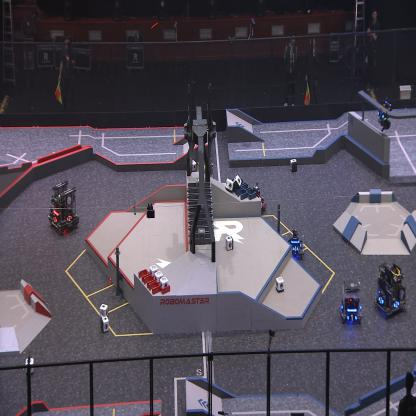car: (374, 262, 408, 318), (47, 178, 80, 235), (339, 279, 363, 325), (195, 156, 215, 192), (247, 184, 266, 218), (286, 230, 304, 261)
